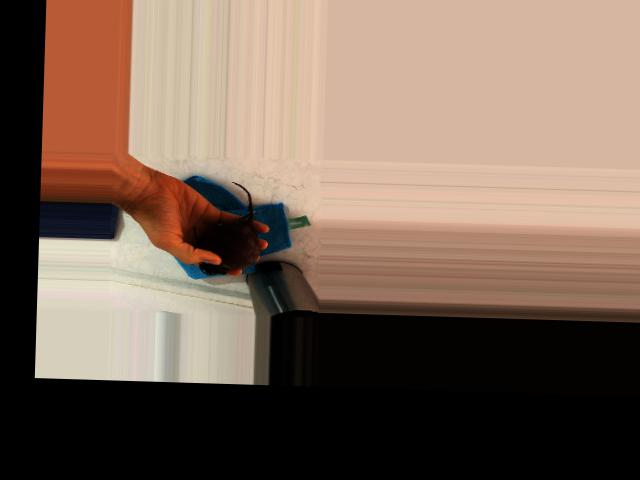beet: (193, 180, 262, 276)
